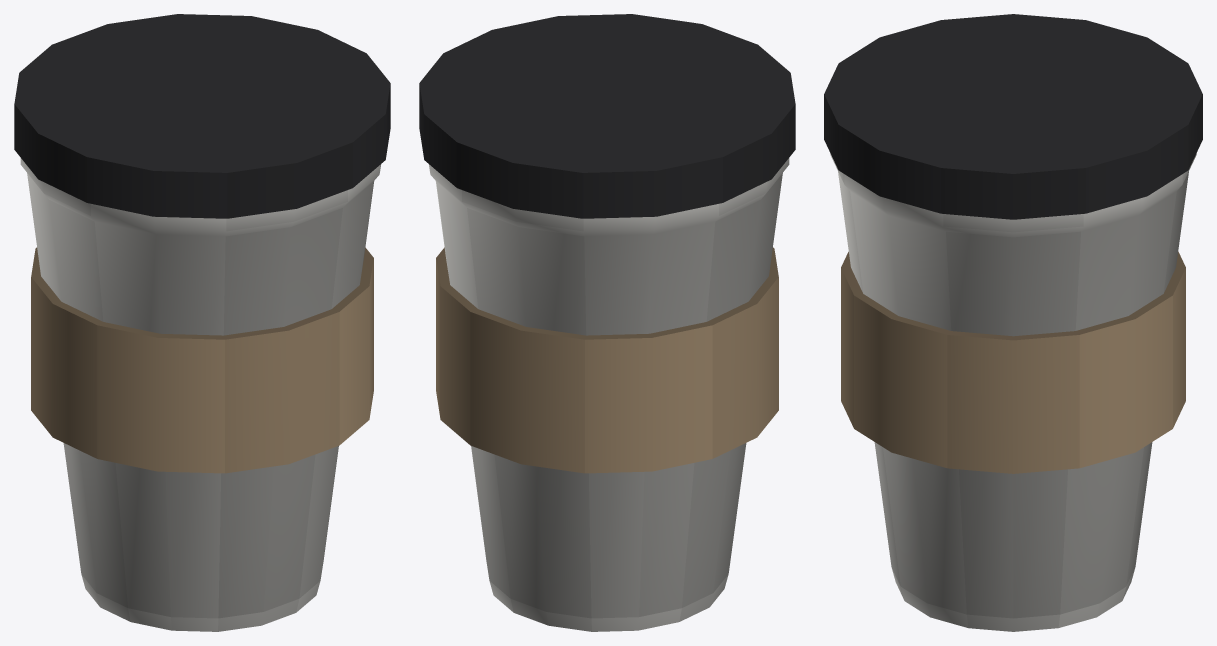
Rendered from paper_cup.glb.
3 renders of one model, left to right at view 1: azimuth 30°, elevation 25°; view 2: azimuth 150°, elevation 25°; view 3: azimuth 270°, elevation 25°, orthographic.
Parts seen in each view (by area): view 1: body; view 2: body; view 3: body.
Part boxes in pixels (x1,y1,x2,y2): body: (14, 14, 390, 631); body: (419, 14, 795, 631); body: (824, 14, 1202, 631).
Size of the model in its own units: 0.09 by 0.128 by 0.09.
